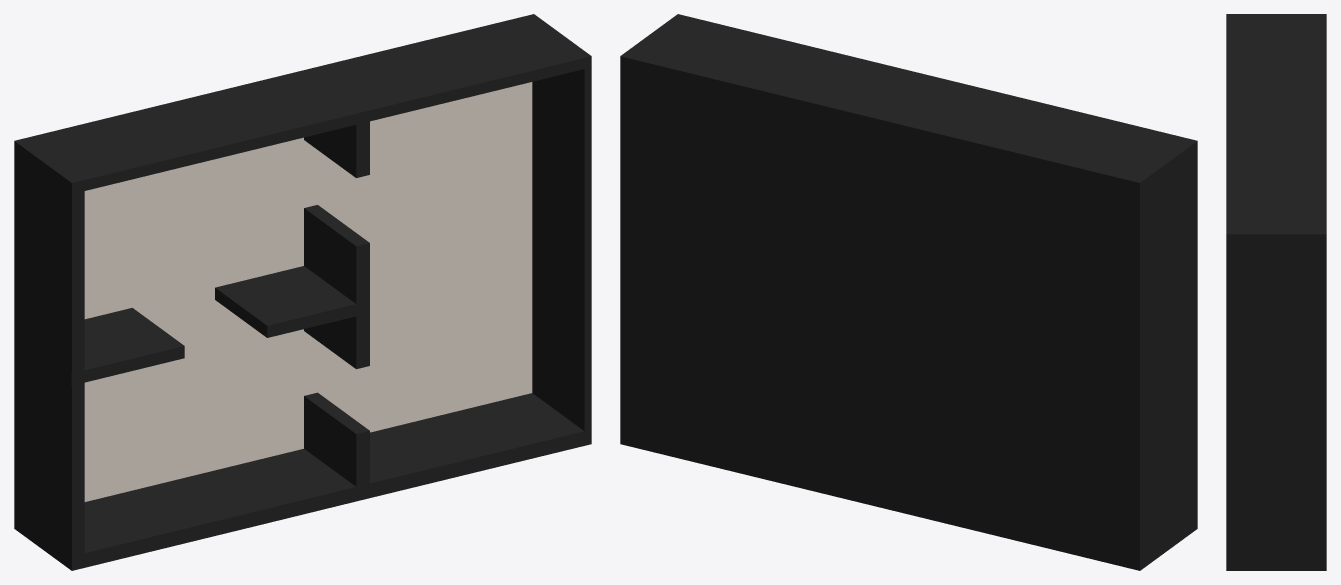
File: RoomExport.fbx
3 renders of one model, left to right at view 1: azimuth 30°, elevation 25°; view 2: azimuth 150°, elevation 25°; view 3: azimuth 270°, elevation 25°, orthographic. The views are drawn at different scales.
Parts seen in each view (by area): view 1: Plane.001, Plane; view 2: Plane, Plane.001; view 3: Plane.001.
Boxes of the visible parts, box(x1,y1,x2,y2) form: Plane.001: box(14, 14, 591, 570); Plane: box(84, 82, 532, 501); Plane: box(620, 56, 1139, 570); Plane.001: box(620, 14, 1197, 570); Plane.001: box(1226, 14, 1326, 570).
Size of the model in its own units: 23.94 by 17.07 by 4.6.
